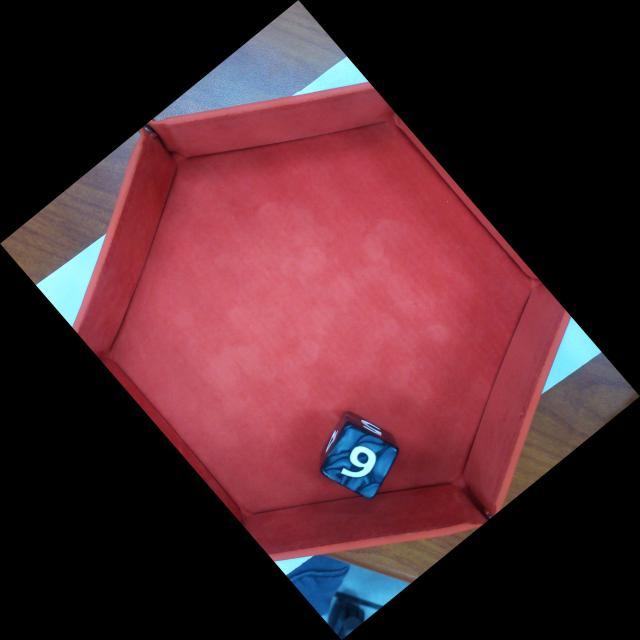dice: (324, 429, 404, 505)
